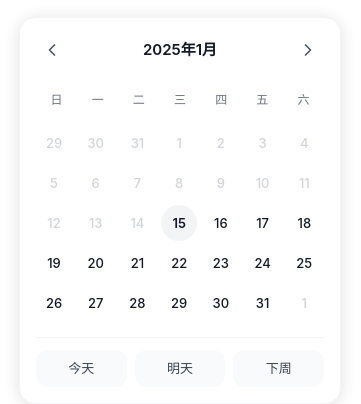
DateDropdown › month navigation › can navigate multiple months backward
(page scrolled)
Click the button named "上个月" at (52,50), box [36,34,68,66]
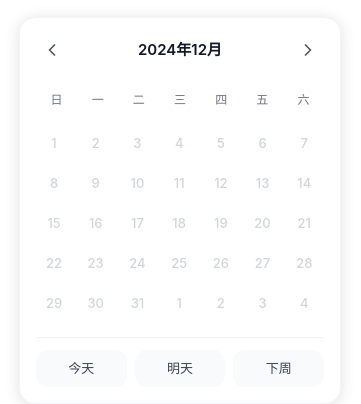
Click the button named "上个月" at (52,50), box [36,34,68,66]
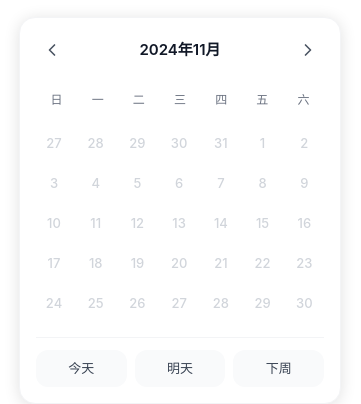
Now the heading "2024年11月" is shown, box [140,38,220,62]
